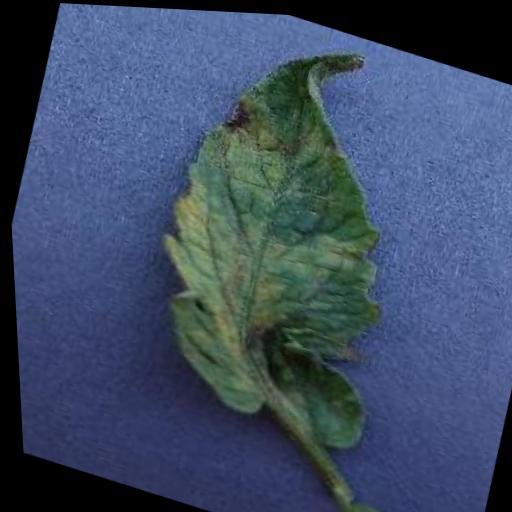Leaf Mold: (111, 5, 458, 451)
